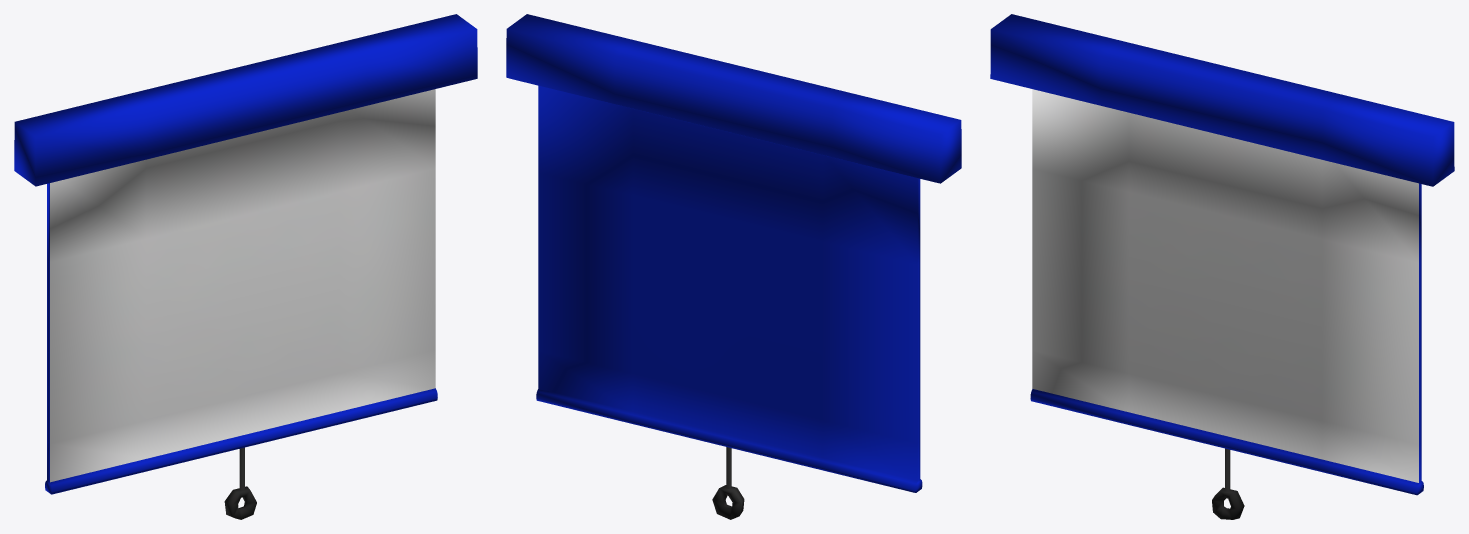
Rendered from Painel.fbx.
3 renders of one model, left to right at view 1: azimuth 30°, elevation 25°; view 2: azimuth 150°, elevation 25°; view 3: azimuth 330°, elevation 25°, orthographic.
Visible parts, largest first — view 1: Painel; view 2: Painel; view 3: Painel.
Boxes of the visible parts, left/top/right/bottom form: Painel: left=14, top=14, right=477, bottom=519; Painel: left=506, top=14, right=961, bottom=519; Painel: left=990, top=14, right=1454, bottom=519.
Bounding box in the file's own units: 176 × 171 × 14.78.
Materials: 1 (1 with a texture image).
